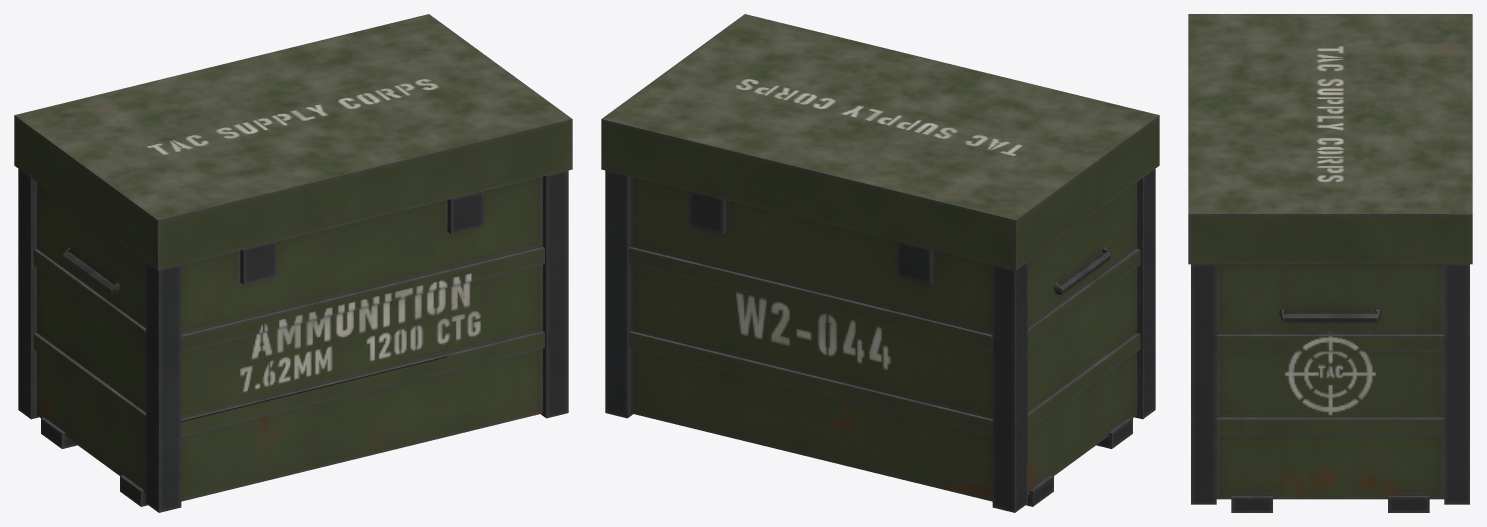
Rendered from W2_SteelCrate.fbx.
3 renders of one model, left to right at view 1: azimuth 30°, elevation 25°; view 2: azimuth 150°, elevation 25°; view 3: azimuth 270°, elevation 25°, orthographic.
Visible parts, largest first — view 1: W2_SteelCrate; view 2: W2_SteelCrate; view 3: W2_SteelCrate.
Part boxes in pixels (left/top/right/bottom): W2_SteelCrate: left=14, top=14, right=572, bottom=512; W2_SteelCrate: left=601, top=14, right=1159, bottom=512; W2_SteelCrate: left=1188, top=14, right=1472, bottom=512.
Bounding box in the file's own units: 500 × 350 × 300.
Materials: 1 (1 with a texture image).
